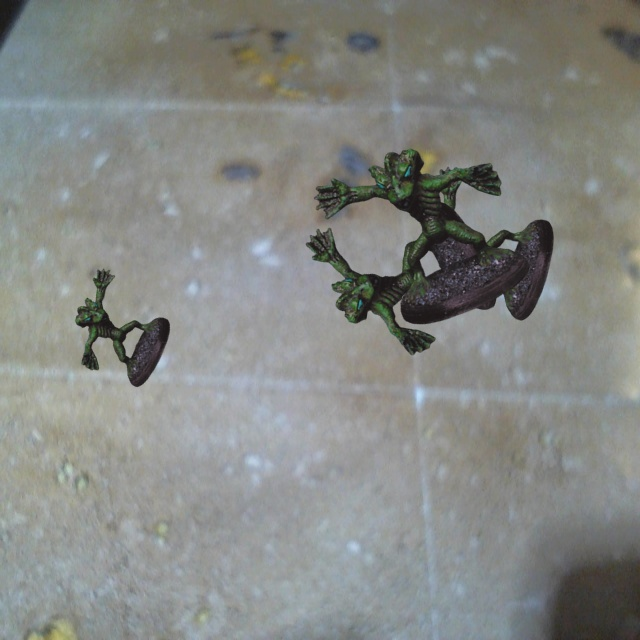pieza_juego: (314, 148, 529, 323), (306, 202, 496, 354), (421, 167, 553, 320), (75, 269, 169, 386)
